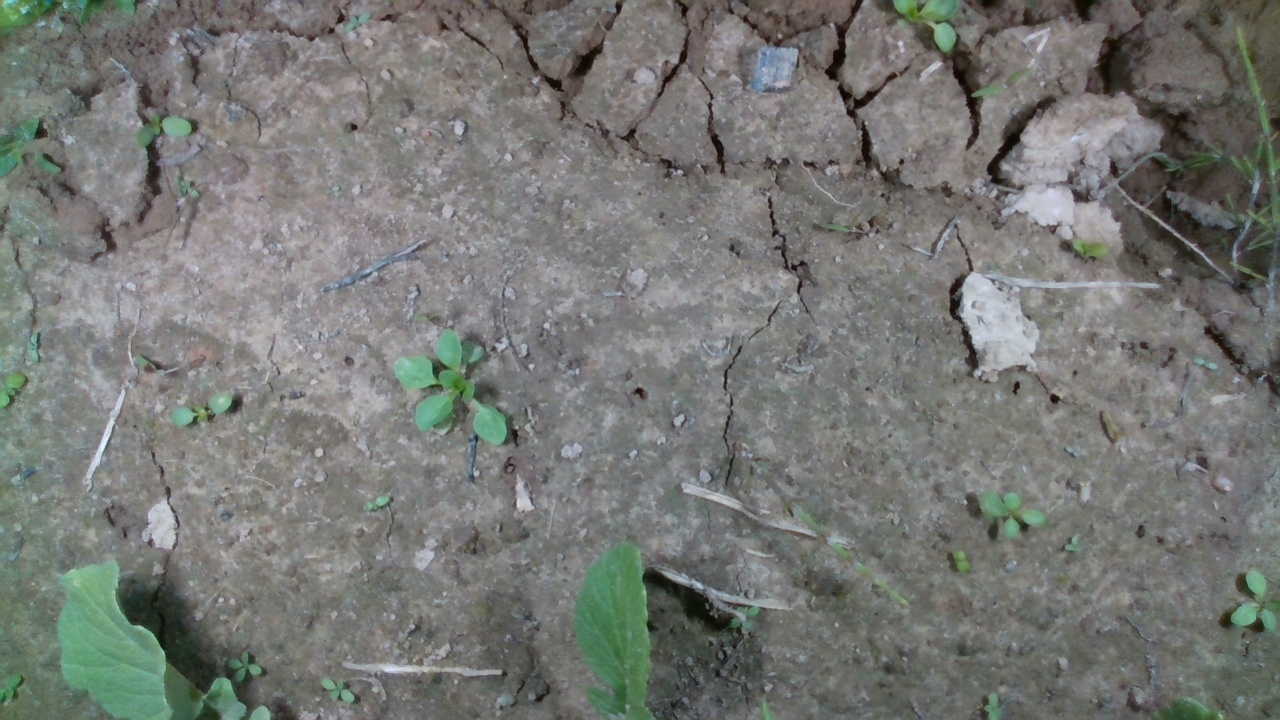weed: (977, 488, 1049, 541), (1225, 566, 1278, 634), (170, 390, 234, 428), (134, 114, 193, 148), (318, 676, 356, 705), (728, 604, 759, 632), (361, 493, 391, 513), (1191, 356, 1219, 372), (953, 549, 971, 573), (1063, 533, 1084, 553)
